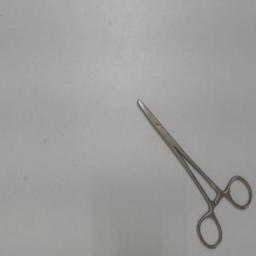Mayo Needle Holder: (132, 92, 254, 252)
